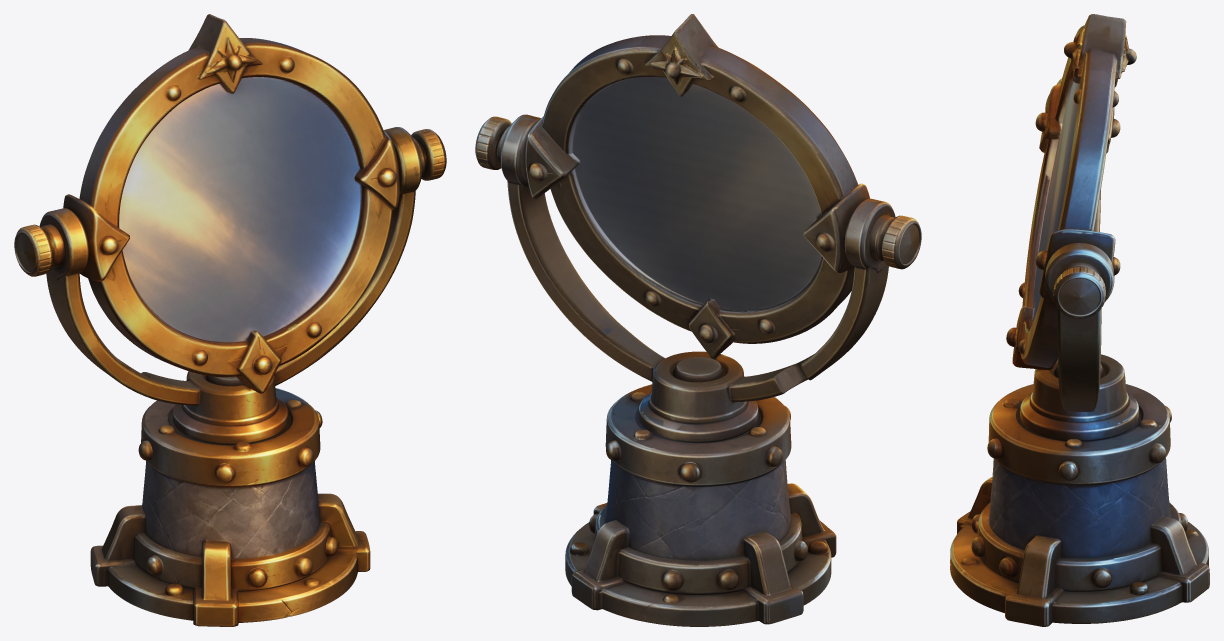
File: ayna.glb
The picture shows the model from 3 angles, left to right: view 1: azimuth 30°, elevation 25°; view 2: azimuth 150°, elevation 25°; view 3: azimuth 270°, elevation 25°; orthographic projection. The views are drawn at different scales.
Visible parts, largest first — view 1: tripo_node_d8a92d14-4339-4f78-80a1-d55dbe5e1eb0; view 2: tripo_node_d8a92d14-4339-4f78-80a1-d55dbe5e1eb0; view 3: tripo_node_d8a92d14-4339-4f78-80a1-d55dbe5e1eb0.
Part boxes in pixels (x1,y1,x2,y2): tripo_node_d8a92d14-4339-4f78-80a1-d55dbe5e1eb0: (14,14,446,626); tripo_node_d8a92d14-4339-4f78-80a1-d55dbe5e1eb0: (475,14,921,626); tripo_node_d8a92d14-4339-4f78-80a1-d55dbe5e1eb0: (950,14,1209,626).
Bounding box in the file's own units: 0.7744 × 0.9781 × 0.4155.
1 material, 1 textured.
